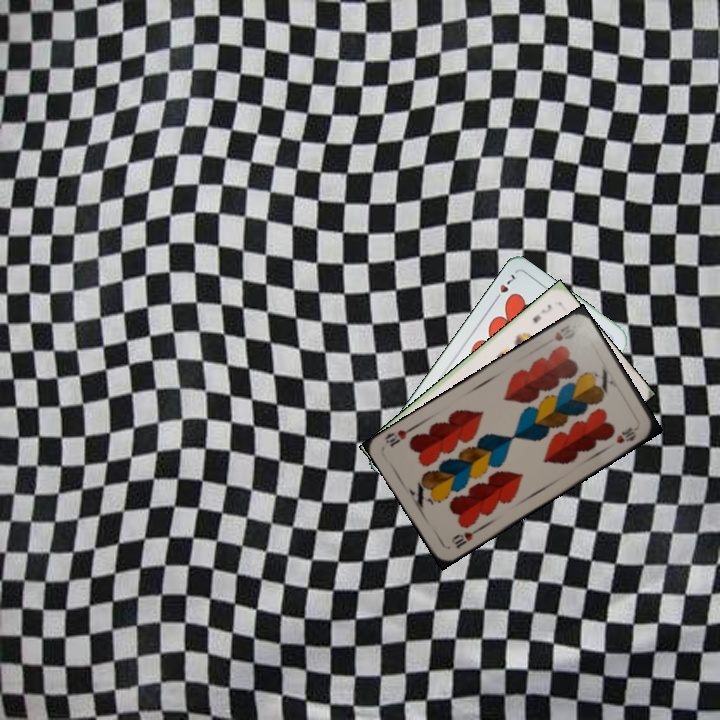E7: (528, 300, 555, 326)
H10: (447, 524, 482, 552), (550, 321, 578, 344)
H7: (490, 270, 518, 305)
